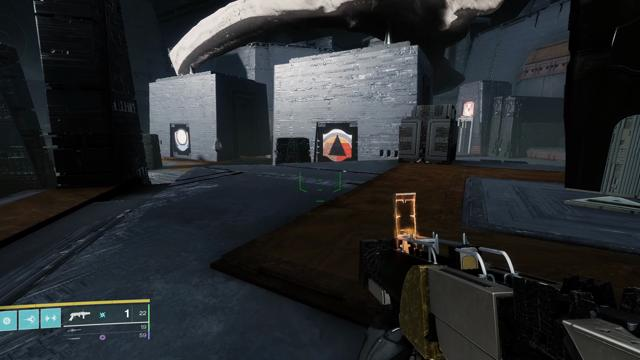pyramid: (323, 129, 352, 162)
traveler: (174, 128, 189, 151)
